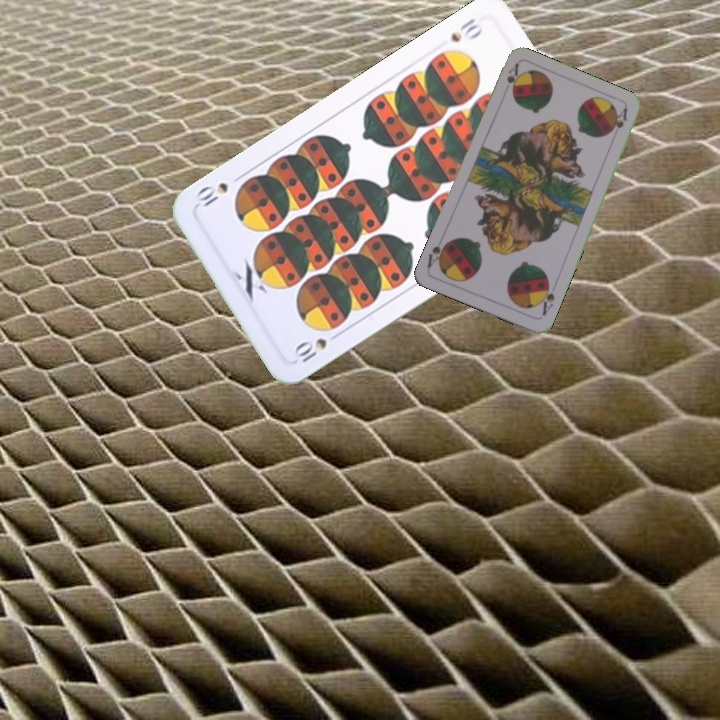S10: (289, 334, 330, 366), (446, 13, 486, 45)
SA: (535, 278, 557, 318), (502, 60, 522, 93)
